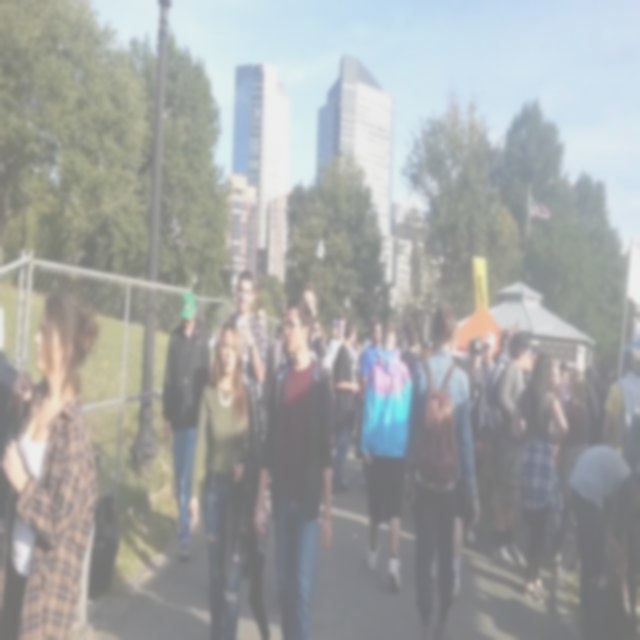pessoa: (0, 286, 108, 640), (252, 294, 336, 640), (403, 300, 481, 640), (186, 314, 260, 640), (359, 320, 416, 594), (510, 346, 570, 604), (566, 443, 640, 640), (161, 291, 212, 562), (492, 330, 528, 570), (450, 321, 476, 602), (226, 268, 267, 444), (557, 368, 591, 572), (278, 282, 333, 392), (330, 319, 360, 499), (0, 346, 23, 552), (602, 346, 640, 456), (261, 296, 294, 414), (574, 576, 620, 640), (463, 337, 486, 452), (582, 357, 612, 445), (620, 510, 640, 640), (395, 323, 435, 382), (359, 318, 384, 400), (348, 350, 364, 460), (326, 311, 346, 398), (480, 330, 497, 412), (550, 358, 573, 408), (522, 343, 540, 388), (313, 317, 338, 348), (353, 314, 372, 352), (403, 455, 416, 510), (492, 332, 510, 364), (554, 442, 564, 490), (457, 336, 473, 364), (254, 303, 268, 332), (482, 343, 486, 363), (372, 314, 380, 320)
